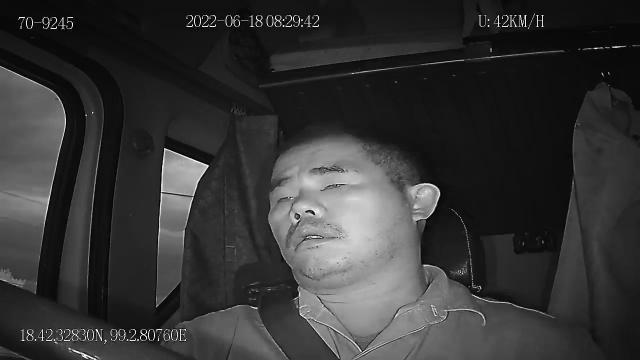SafeDriving: (314, 168, 358, 198)
Seatbelt: (240, 268, 346, 360)
